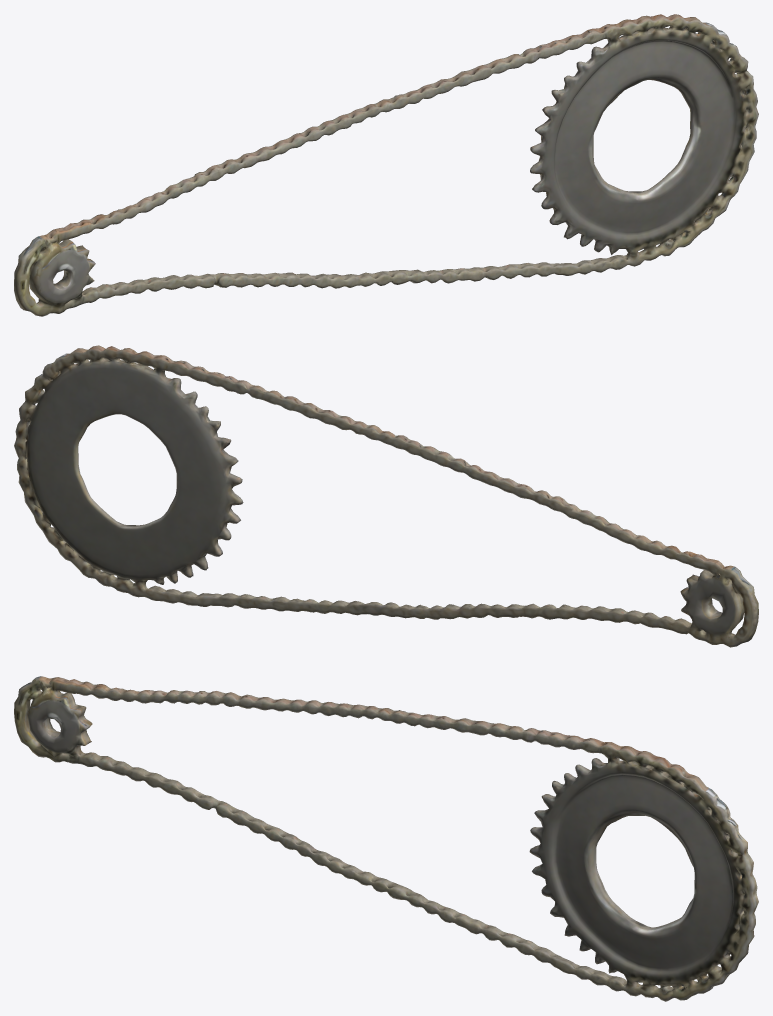
File: Chain_and_Sprockets_texture.fbx
The picture shows the model from 3 angles, top to bottom: view 1: azimuth 30°, elevation 25°; view 2: azimuth 150°, elevation 25°; view 3: azimuth 330°, elevation 25°; orthographic projection.
Parts seen in each view (by area): view 1: Mesh1; view 2: Mesh1; view 3: Mesh1.
Part boxes in pixels (<box>): Mesh1: <box>14,14,758,316</box>; Mesh1: <box>14,345,758,647</box>; Mesh1: <box>14,676,758,1001</box>.
Size of the model in its own units: 200 by 63.15 by 4.44.
Materials: 1 (1 with a texture image).
